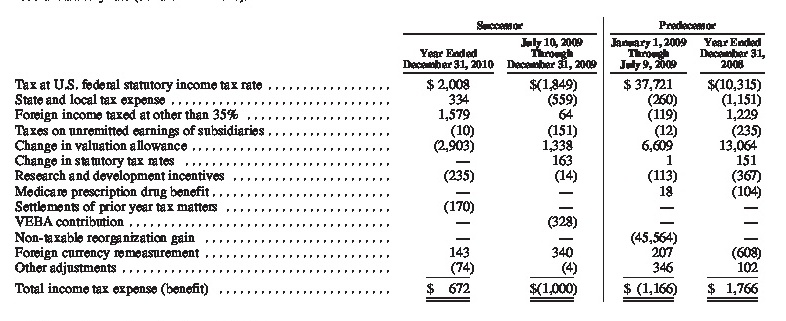table: (0, 0, 786, 321)
